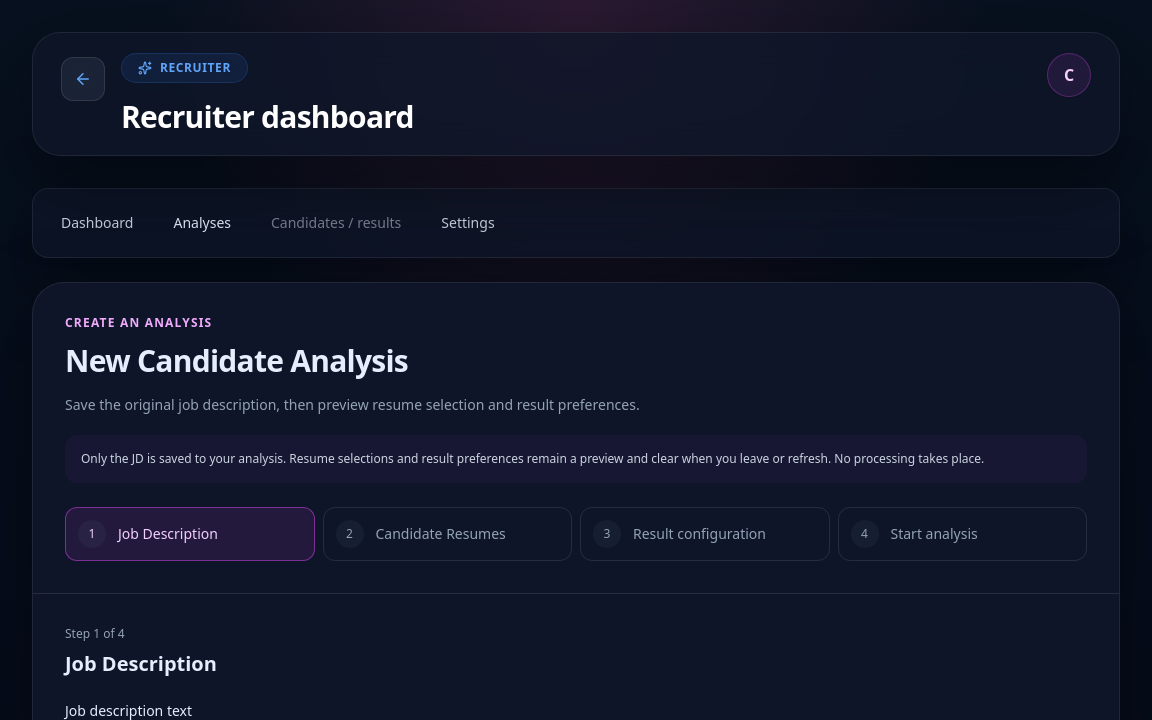
Test: authenticated direct navigation renders /recruiter/analysis/new inside the recruiter layout
Expected: the heading with id "recruiter-page-title" reads "New Candidate Analysis", x1=65 y1=340 x2=408 y2=381
Expected: the number of navigation bars named "Recruiter navigation" is 1, x1=32 y1=188 x2=1120 y2=258
Click the button named "Open profile menu". click: (1069,75)
box: x1=1047 y1=53 x2=1091 y2=97
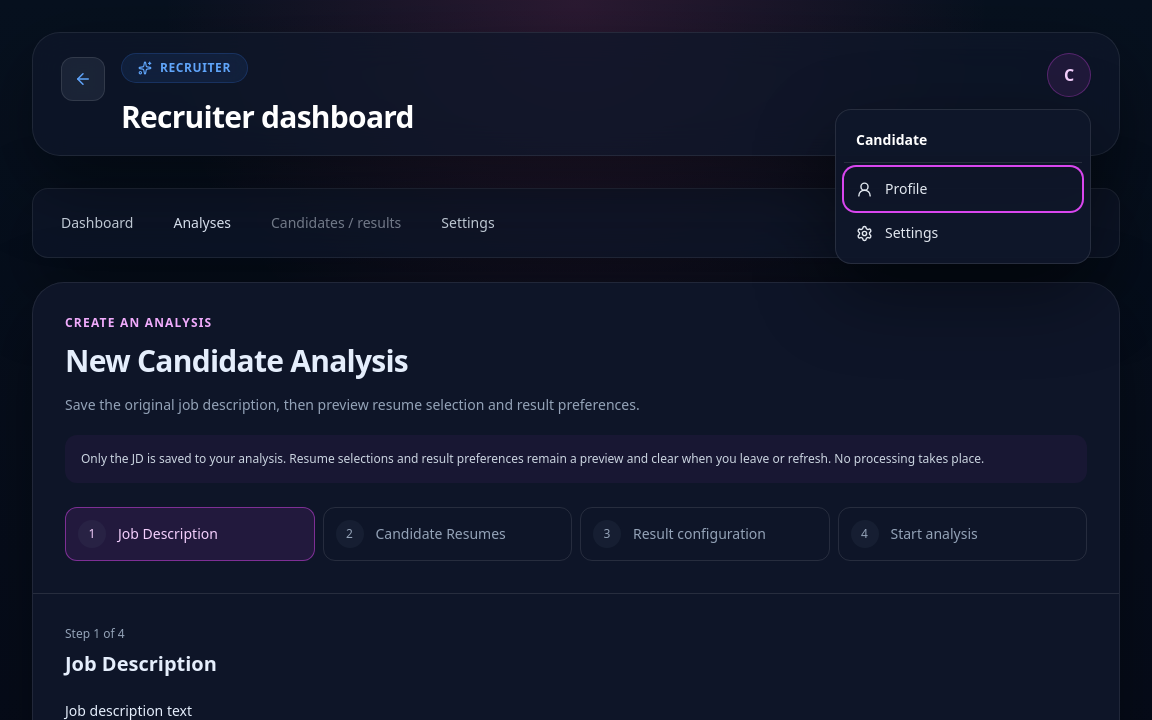
Now the link to "/profile" is shown, box x1=844 y1=167 x2=1082 y2=211
Now the link to "/recruiter/settings" is shown, box x1=856 y1=223 x2=938 y2=242
